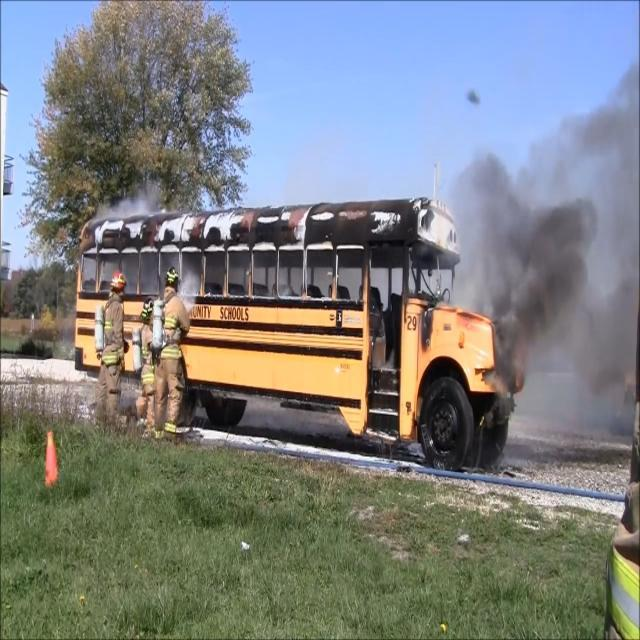Smoke: (487, 91, 640, 375)
